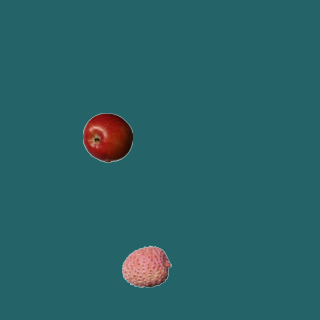Apple Braeburn: (82, 112, 132, 162)
Lychee: (121, 241, 171, 291)
